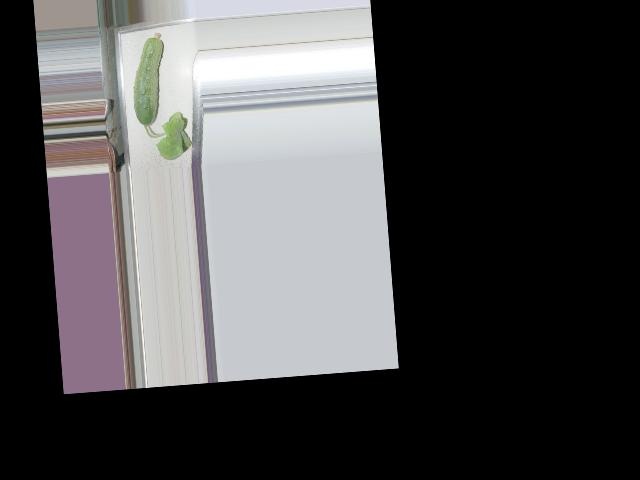cucumber: (128, 31, 169, 127)
